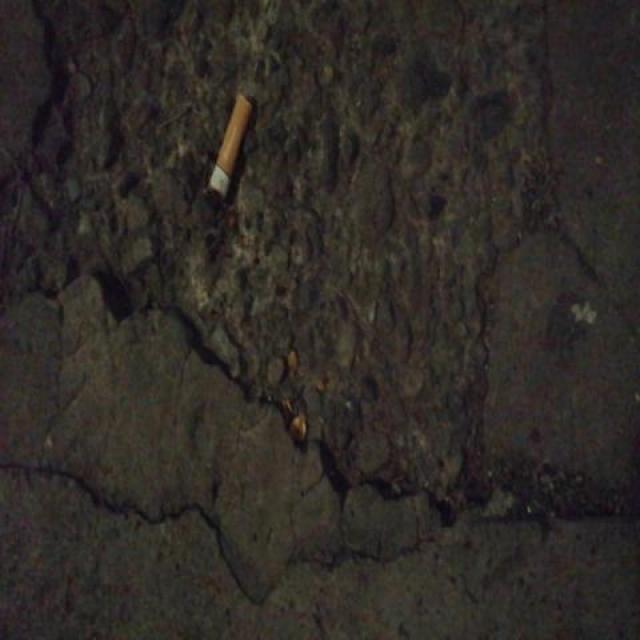non-organic waste: (202, 89, 255, 204)
